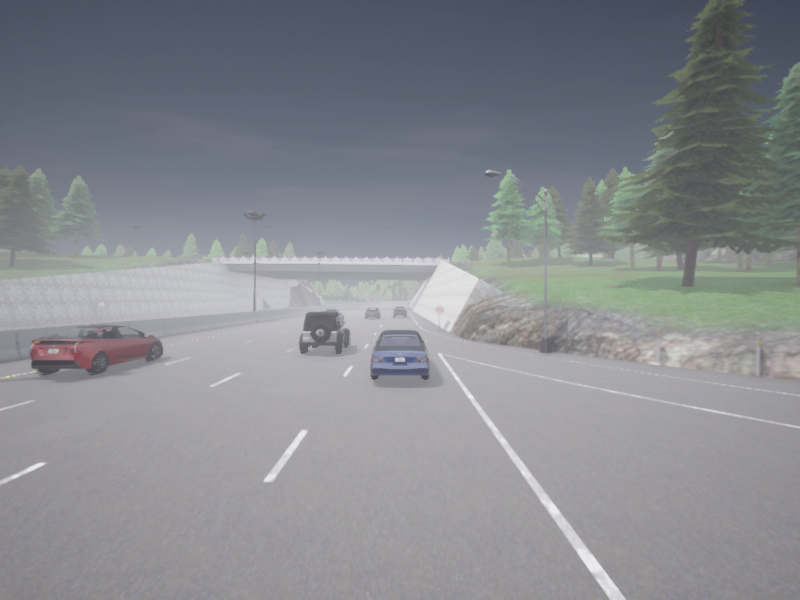vehicle: (30, 325, 162, 374), (370, 329, 429, 378), (299, 311, 349, 352), (326, 309, 343, 321), (365, 307, 380, 318), (392, 306, 407, 316)
